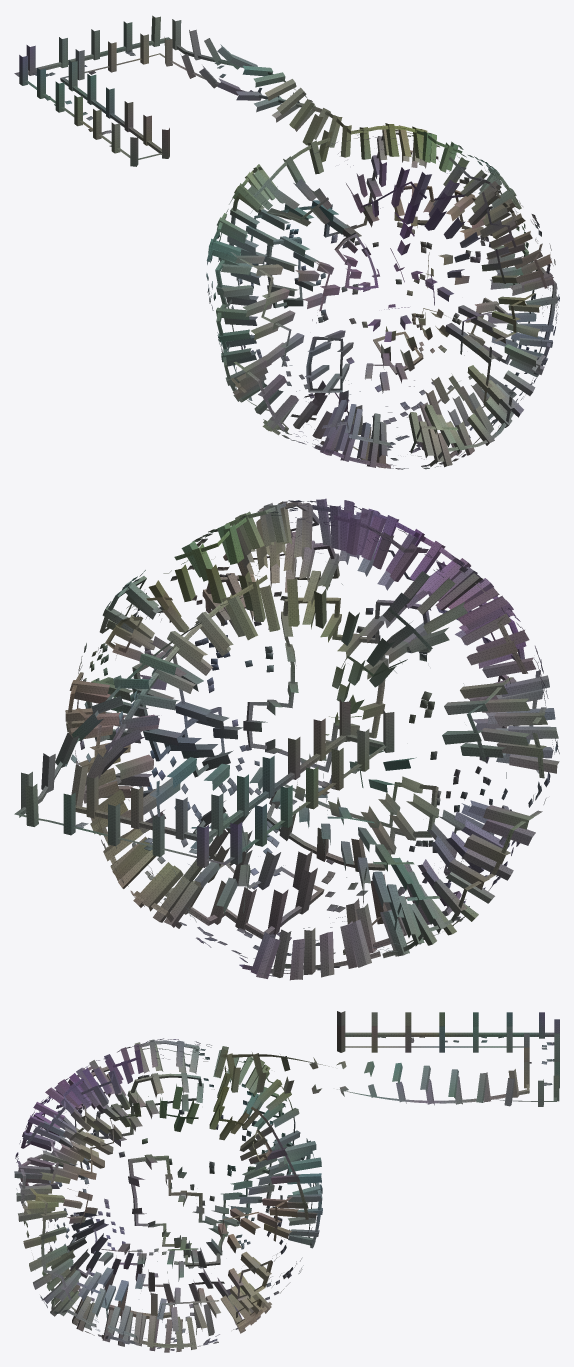
The model's file is test2_rend.glb.
3 renders of one model, top to bottom at view 1: azimuth 30°, elevation 25°; view 2: azimuth 150°, elevation 25°; view 3: azimuth 270°, elevation 25°, orthographic. The views are drawn at different scales.
Parts seen in each view (by area): view 1: file1; view 2: file1; view 3: file1.
Boxes of the visible parts, <box> form: file1: <box>14,15,559,469</box>; file1: <box>14,498,559,980</box>; file1: <box>14,1011,559,1352</box>.
Bounding box in the file's own units: 51.84 × 50.82 × 88.28.
Materials: 3 (3 with a texture image).
